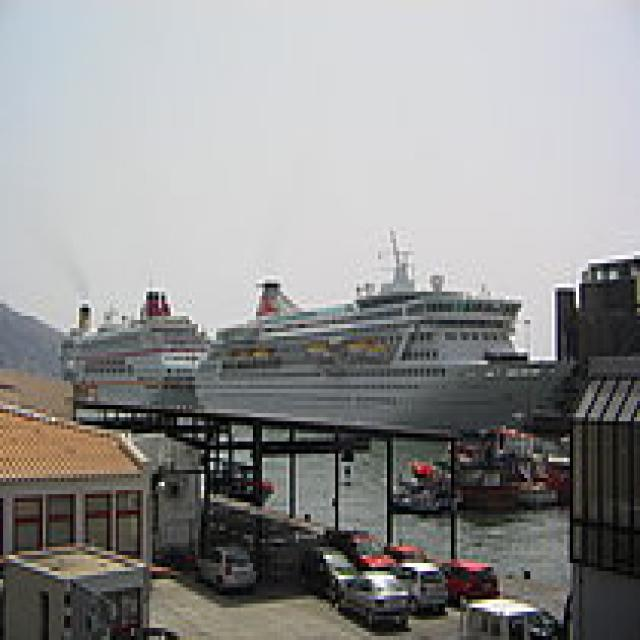Cruise: (189, 223, 567, 425), (55, 284, 225, 409)
